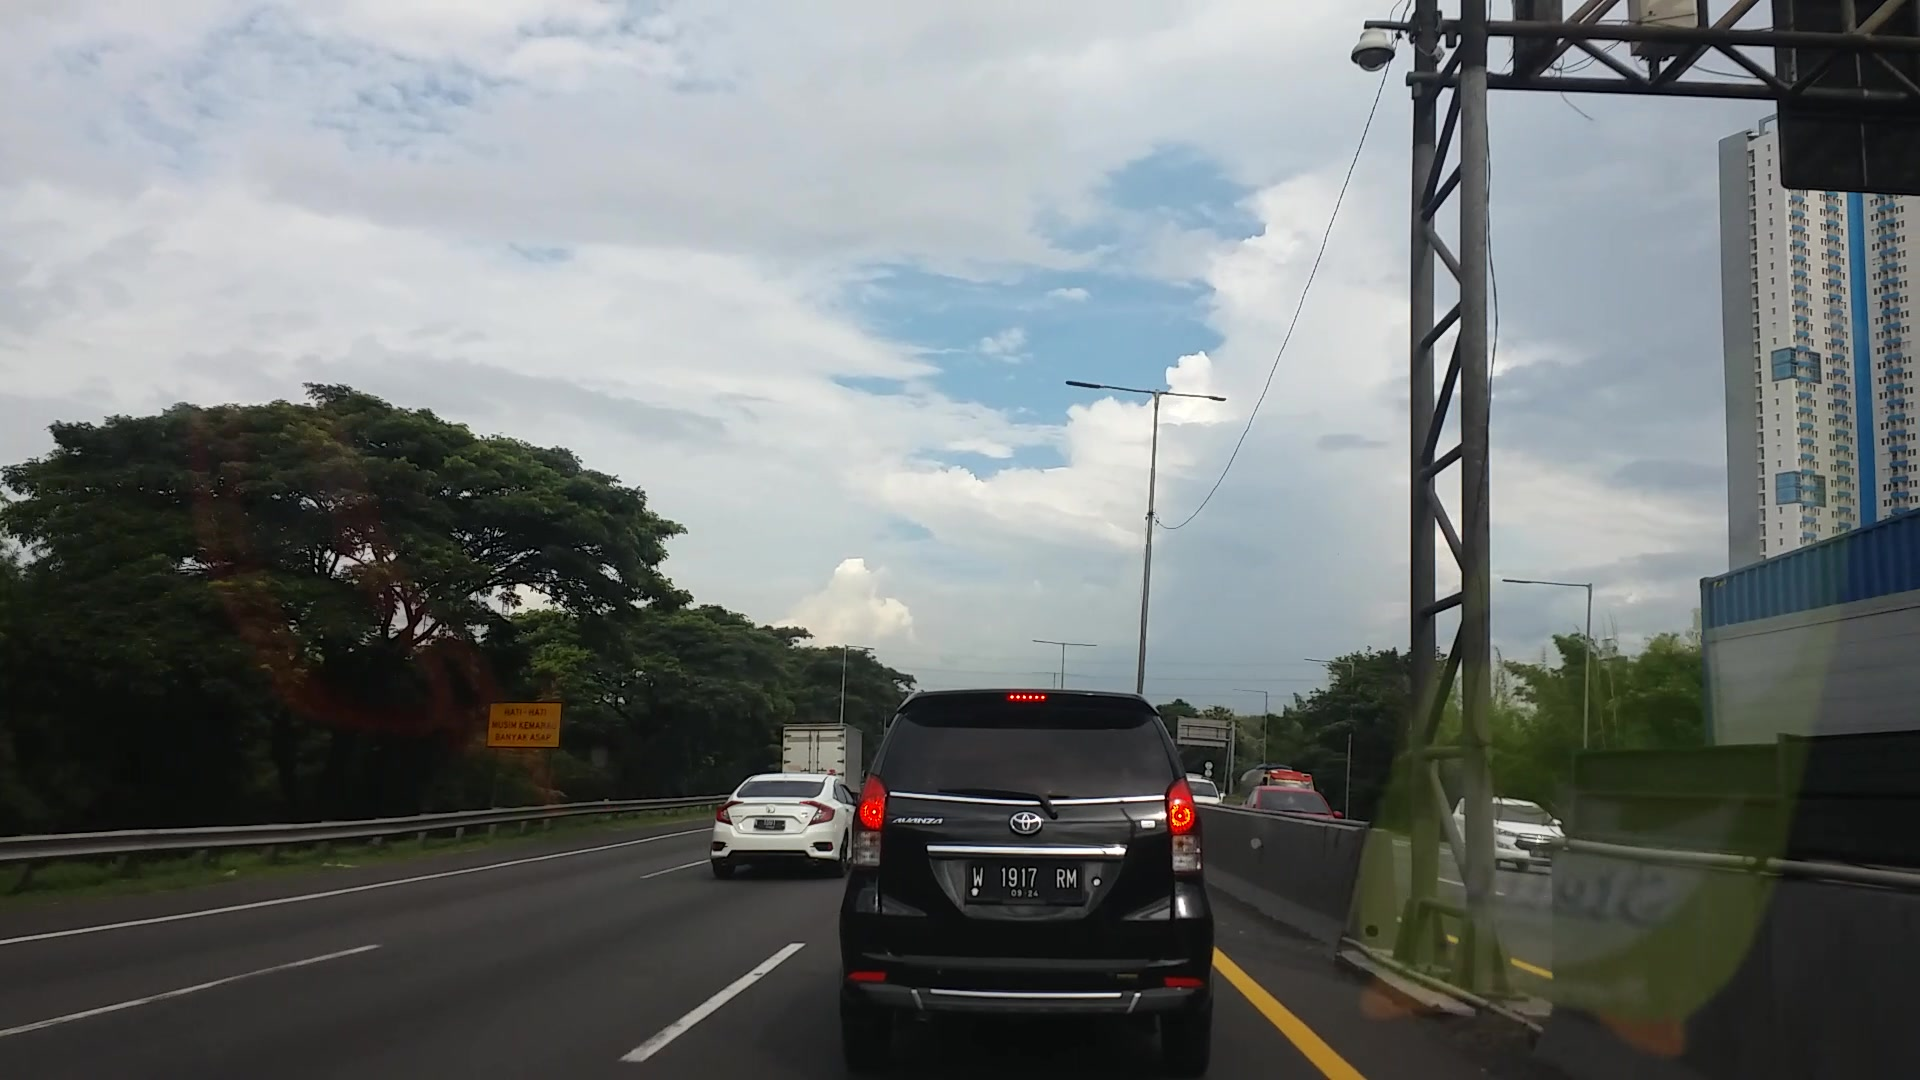plate_positive: (964, 858, 1087, 906)
